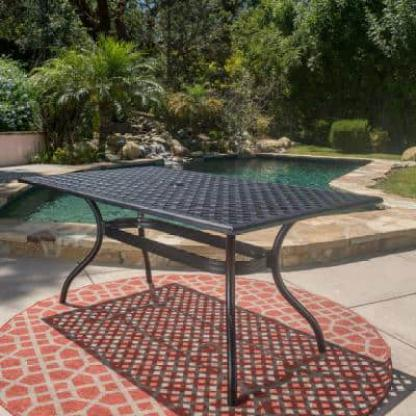table: (12, 158, 388, 410)
